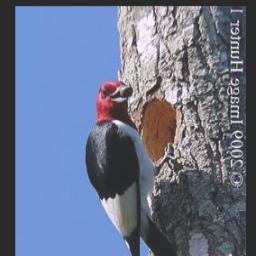Woodpecker: (82, 67, 188, 256)
